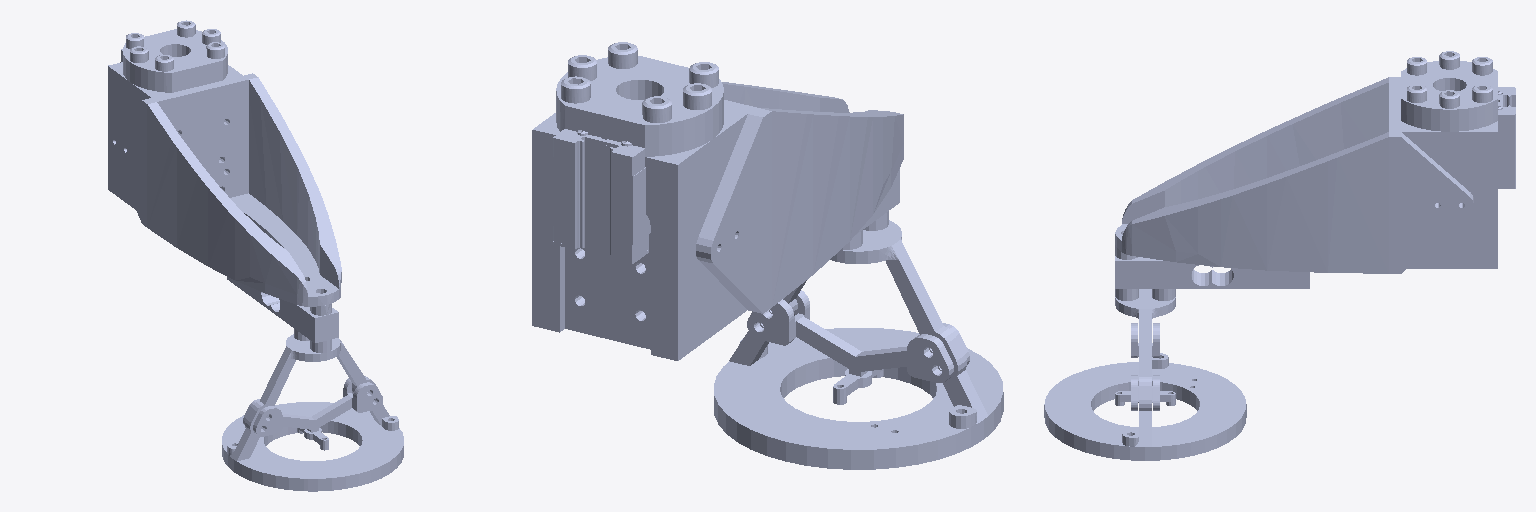
The robot description file, URDF, robot "gantry":
<?xml version="1.0" encoding="utf-8"?>
<!-- This URDF was automatically created by SolidWorks to URDF Exporter! Originally created by [author] ([email redacted]) 
     Commit Version: 1.6.0-4-g7f85cfe  Build Version: 1.6.7995.38578
     For more information, please see http://wiki.ros.org/sw_urdf_exporter -->
<robot
  name="gantry">
  
  <link name="world"/>
  <joint
    name="base_joint"
    type="fixed">
    <parent
      link="world" />
    <child
      link="base_link_inertia" />
    <origin rpy="0 0 0" xyz="0.0 0.0 0.0"/>
  </joint>
  <link
    name="base_link_inertia">
    <inertial>
      <origin
        xyz="0.00034882 0.032516 0.24303"
        rpy="0 0 0" />
      <mass
        value="10" />
      <inertia
        ixx="0.12532"
        ixy="-3.6303E-09"
        ixz="8.8835E-07"
        iyy="0.041971"
        iyz="-4.7939E-07"
        izz="0.13107" />
    </inertial>
    <visual>
      <origin
        xyz="0 0 0"
        rpy="0 0 0" />
      <geometry>
        <mesh
          filename="package://gantry_description/meshes/gantry/set4/visual/base_link.stl" scale="0.001  0.001 0.001" />
      </geometry>
      <material
        name="">
        <color
          rgba="0.79216 0.81961 0.93333 1" />
      </material>
    </visual>
    <collision>
      <origin
        xyz="0 0 0"
        rpy="0 0 0" />
      <geometry>
        <mesh
          filename="package://gantry_description/meshes/gantry/set4/collision/base_link.dae" scale="0.001  0.001 0.001" />
      </geometry>
    </collision>
  </link>
  <link
    name="x_link">
    <inertial>
      <origin
        xyz="-0.048186 0.050712 0.0022474"
        rpy="0 0 0" />
      <mass
        value="1.6" />
      <inertia
        ixx="0.00043215"
        ixy="1.9114E-09"
        ixz="2.3613E-07"
        iyy="0.011891"
        iyz="2.7571E-05"
        izz="0.01197" />
    </inertial>
    <visual>
      <origin
        xyz="0 0 0"
        rpy="0 0 0" />
      <geometry>
        <mesh
          filename="package://gantry_description/meshes/gantry/set4/visual/x_link.stl" scale="0.001  0.001 0.001" />
      </geometry>
      <material
        name="">
        <color
          rgba="0.79216 0.81961 0.93333 1" />
      </material>
    </visual>
    <collision>
      <origin
        xyz="0 0 0"
        rpy="0 0 0" />
      <geometry>
        <mesh
          filename="package://gantry_description/meshes/gantry/set4/collision/x_link.dae" scale="0.001  0.001 0.001" />
      </geometry>
    </collision>
  </link>
  <joint
    name="x_joint"
    type="prismatic">
    <origin
      xyz="0 0.05 0.45"
      rpy="1.5708 -2.0964E-05 0" />
    <parent
      link="base_link_inertia" />
    <child
      link="x_link" />
    <axis
      xyz="0 0 -1" />
    <limit
      lower="-0.17"
      upper="0.17"
      effort="100"
      velocity="1" />
  </joint>
  <link
    name="y_link">
    <inertial>
      <origin
        xyz="-0.11023 -0.047388 0.010097"
        rpy="0 0 0" />
      <mass
        value="1" />
      <inertia
        ixx="0.00027954"
        ixy="3.1449E-07"
        ixz="1.1171E-08"
        iyy="0.0072125"
        iyz="4.0095E-07"
        izz="0.0071657" />
    </inertial>
    <visual>
      <origin
        xyz="0 0 0"
        rpy="0 0 0" />
      <geometry>
        <mesh
          filename="package://gantry_description/meshes/gantry/set4/visual/y_link.stl" scale="0.001  0.001 0.001" />
      </geometry>
      <material
        name="">
        <color
          rgba="0.79216 0.81961 0.93333 1" />
      </material>
    </visual>
    <collision>
      <origin
        xyz="0 0 0"
        rpy="0 0 0" />
      <geometry>
        <mesh
          filename="package://gantry_description/meshes/gantry/set4/collision/y_link.dae" scale="0.001  0.001 0.001" />
      </geometry>
    </collision>
  </link>
  <joint
    name="y_joint"
    type="prismatic">
    <origin
      xyz="-0.01 0.053 0.0295"
      rpy="-1.5708 0 -1.5708" />
    <parent
      link="x_link" />
    <child
      link="y_link" />
    <axis
      xyz="0 0 1" />
    <limit
      lower="-0.16"
      upper="0.16"
      effort="100"
      velocity="1" />
  </joint>
  <link
    name="z_link">
    <inertial>
      <origin
        xyz="6.1912E-08 0.0017903 -0.037699"
        rpy="0 0 0" />
      <mass
        value="0.12177" />
      <inertia
        ixx="4.7832E-05"
        ixy="4.813E-11"
        ixz="5.2651E-11"
        iyy="5.6754E-05"
        iyz="4.1076E-07"
        izz="3.9828E-05" />
    </inertial>
    <visual>
      <origin
        xyz="0 0 0"
        rpy="0 0 0" />
      <geometry>
        <mesh
          filename="package://gantry_description/meshes/gantry/set4/visual/z_link.stl" scale="0.001  0.001 0.001" />
      </geometry>
      <material
        name="">
        <color
          rgba="0.79216 0.81961 0.93333 1" />
      </material>
    </visual>
    <collision>
      <origin
        xyz="0 0 0"
        rpy="0 0 0" />
      <geometry>
        <mesh
          filename="package://gantry_description/meshes/gantry/set4/collision/z_link.dae" scale="0.001  0.001 0.001" />
      </geometry>
    </collision>
  </link>
  <joint
    name="z_joint"
    type="prismatic">
    <origin
      xyz="0.2 -0.081053 0.011"
      rpy="0 1.5708 0" />
    <parent
      link="y_link" />
    <child
      link="z_link" />
    <axis
      xyz="0 0 -1" />
    <limit
      lower="0"
      upper="0.35"
      effort="100"
      velocity="1" />
  </joint>

</robot>

--- What the picture shows (computed from the rendered views, not written in the file) ---
The picture shows the robot from 3 angles, left to right: view 1: azimuth 30°, elevation 25°; view 2: azimuth 150°, elevation 25°; view 3: azimuth 270°, elevation 25°; orthographic projection.
Robot: gantry — 5 links, 4 joints (3 prismatic, 1 fixed); root link world; default pose: every joint at zero.
Visible links, largest first — view 1: z_link; view 2: z_link; view 3: z_link.
Link boxes in pixels (x1,y1,x2,y2): z_link: [108, 20, 403, 491]; z_link: [532, 42, 1003, 469]; z_link: [1044, 51, 1515, 460].
Size in the robot's own frame: 0.083 by 0.1935 by 0.1561 metres.
Meshes: 4 distinct files referenced, 1 mesh visuals loaded (1 binary STL); not drawn: 3 (reference not matched to a file when rendering).